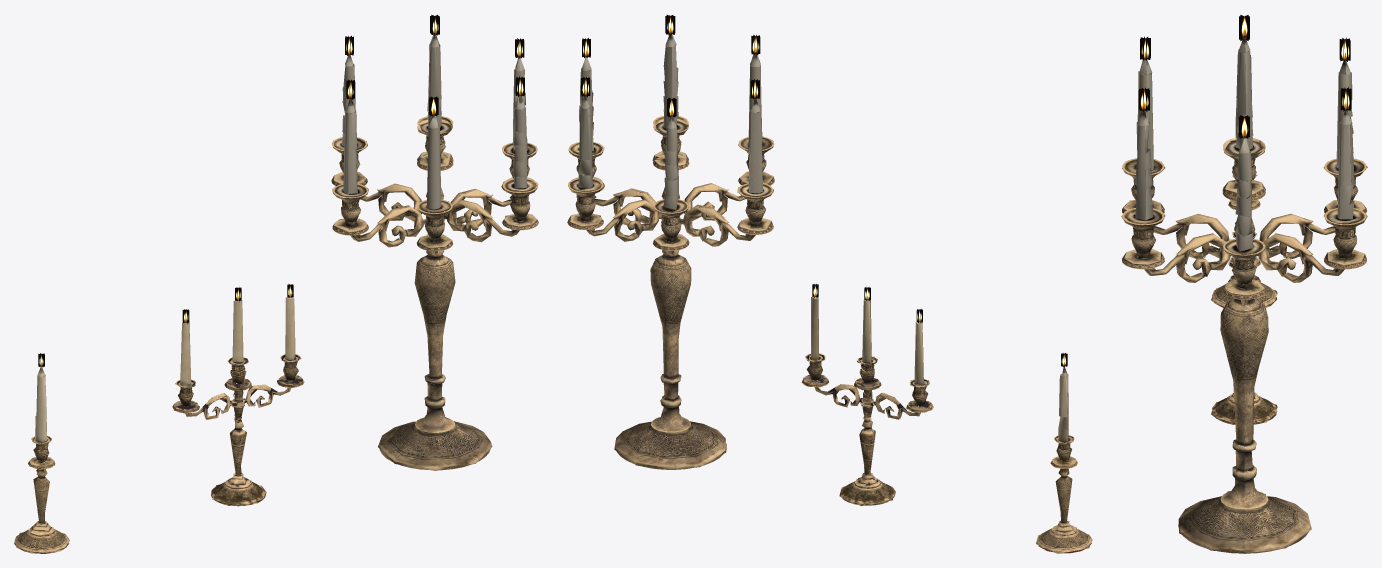
The model's file is ph_brass_candleholders.glb.
3 views of the same model, side by side, from view 1: azimuth 30°, elevation 25°; view 2: azimuth 150°, elevation 25°; view 3: azimuth 270°, elevation 25° (orthographic). The views are drawn at different scales.
Visible parts, largest first — view 1: brass_candleholder_03, brass_candleholder_02, brass_candleholder_01; view 2: brass_candleholder_03, brass_candleholder_02, brass_candleholder_01; view 3: brass_candleholder_03, brass_candleholder_02, brass_candleholder_01.
Part boxes in pixels (x1=…): brass_candleholder_03: x1=331, y1=14, x2=538, y2=470; brass_candleholder_02: x1=172, y1=284, x2=304, y2=506; brass_candleholder_01: x1=14, y1=353, x2=69, y2=553; brass_candleholder_03: x1=567, y1=15, x2=774, y2=469; brass_candleholder_02: x1=801, y1=284, x2=933, y2=506; brass_candleholder_01: x1=1036, y1=353, x2=1092, y2=553; brass_candleholder_03: x1=1121, y1=15, x2=1367, y2=553; brass_candleholder_02: x1=1211, y1=231, x2=1277, y2=424; brass_candleholder_01: x1=1211, y1=174, x2=1277, y2=308.
Size of the model in its own units: 1.06 by 0.8353 by 0.3664.
5 materials, 5 textured.
